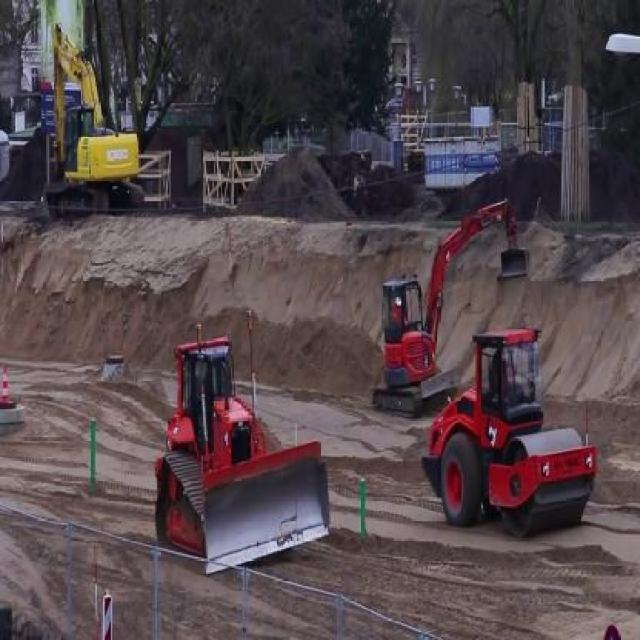Excavator: (368, 187, 530, 413), (48, 26, 140, 199)
Roller: (419, 323, 596, 529)
